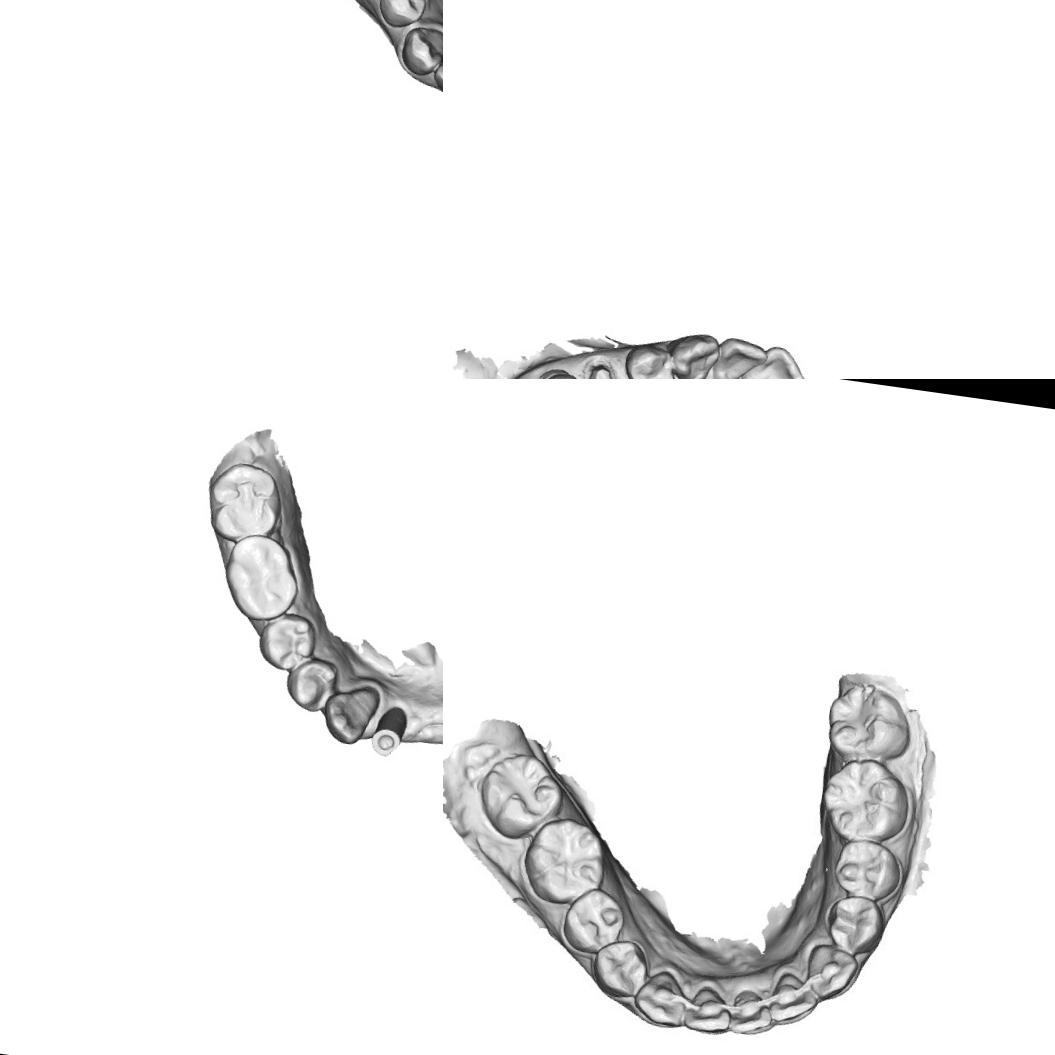canine: (319, 681, 380, 748), (800, 941, 862, 1004), (631, 968, 691, 1030), (663, 328, 723, 379), (397, 22, 443, 79)
crown: (583, 362, 629, 379)
implant: (368, 702, 410, 760)
incisor: (736, 340, 814, 379), (681, 980, 735, 1034), (728, 984, 779, 1041), (770, 970, 820, 1026), (709, 334, 771, 379), (429, 52, 443, 101)
molar: (475, 746, 567, 844), (217, 530, 307, 628), (522, 814, 610, 908), (820, 756, 911, 846), (820, 680, 917, 764), (202, 457, 288, 549)
premolar: (834, 834, 901, 902), (254, 607, 320, 675), (825, 894, 890, 956), (565, 888, 625, 954), (282, 654, 342, 716), (591, 940, 649, 1000), (617, 338, 681, 379), (373, 0, 430, 33)
